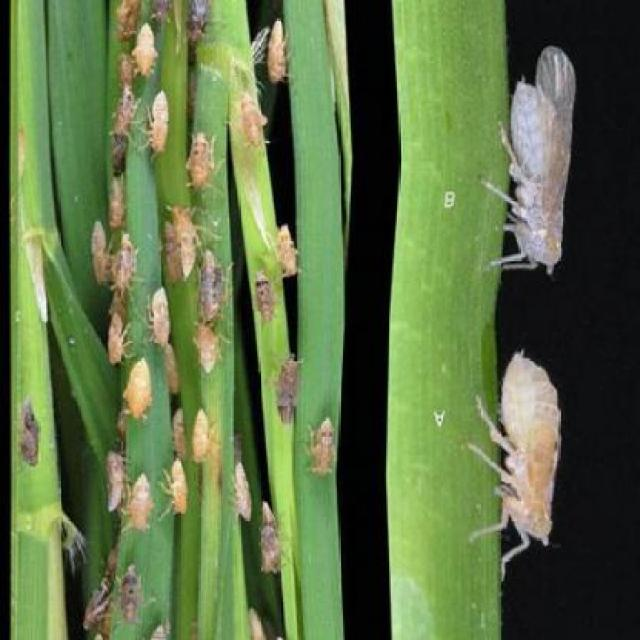brown-planthopper: (498, 351, 564, 555), (506, 68, 568, 274), (123, 355, 157, 420), (234, 88, 266, 147), (309, 414, 337, 480), (275, 352, 300, 423), (197, 250, 223, 318), (112, 238, 138, 302), (260, 506, 282, 580), (267, 23, 291, 85), (108, 85, 134, 142), (146, 289, 171, 348), (188, 402, 212, 463), (18, 397, 40, 463), (130, 469, 152, 533), (123, 567, 146, 627), (132, 20, 157, 74), (148, 92, 170, 153), (166, 458, 189, 516), (89, 218, 109, 282), (190, 134, 213, 189), (251, 274, 275, 326), (231, 459, 252, 518), (275, 227, 299, 276), (107, 312, 128, 366), (196, 322, 218, 373), (107, 176, 125, 229)
